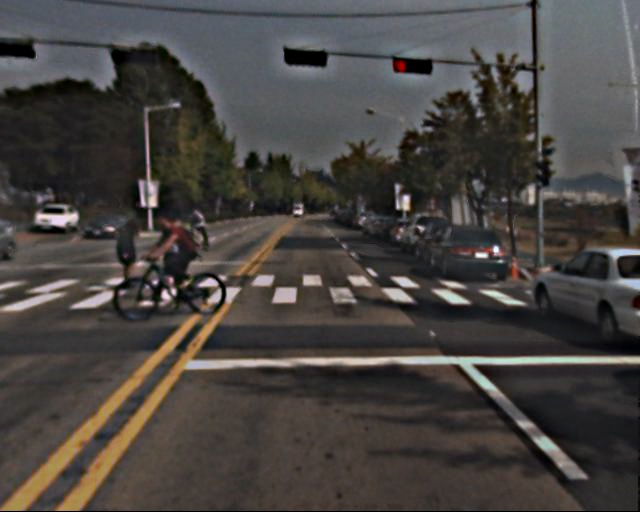person: (154, 210, 199, 303), (116, 213, 146, 290)
